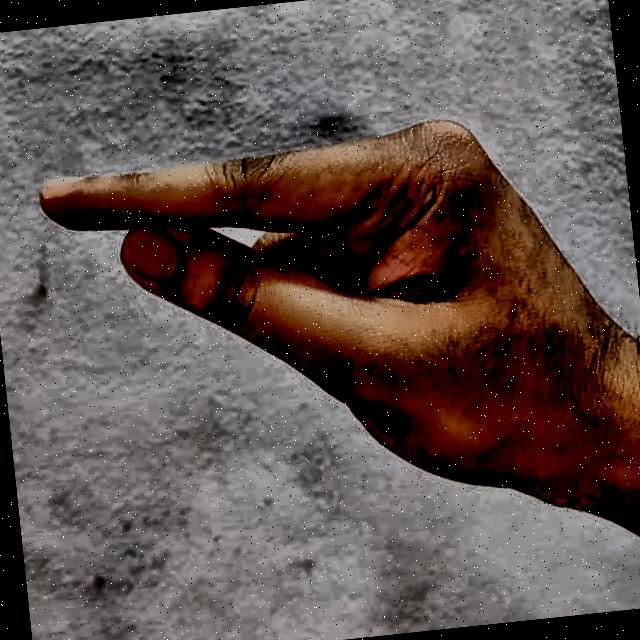Tha: (16, 46, 638, 608)
